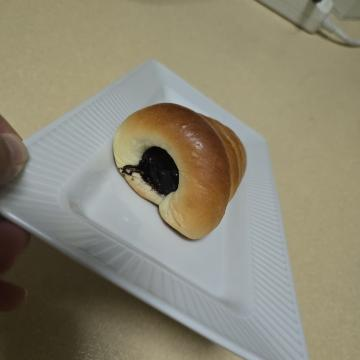cream horn: (88, 104, 251, 259)
